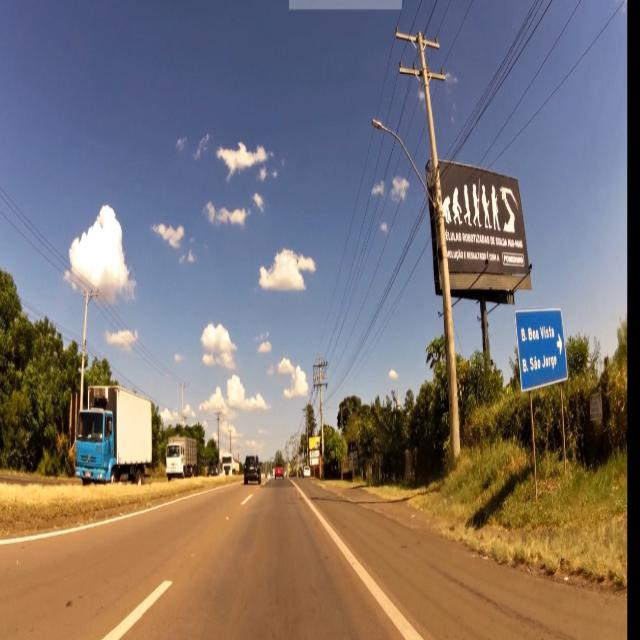LOC-6: (516, 307, 566, 383)
